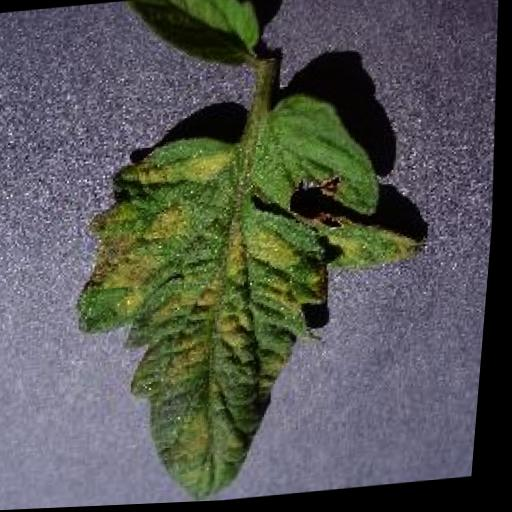Leaf Mold: (59, 80, 452, 509)
